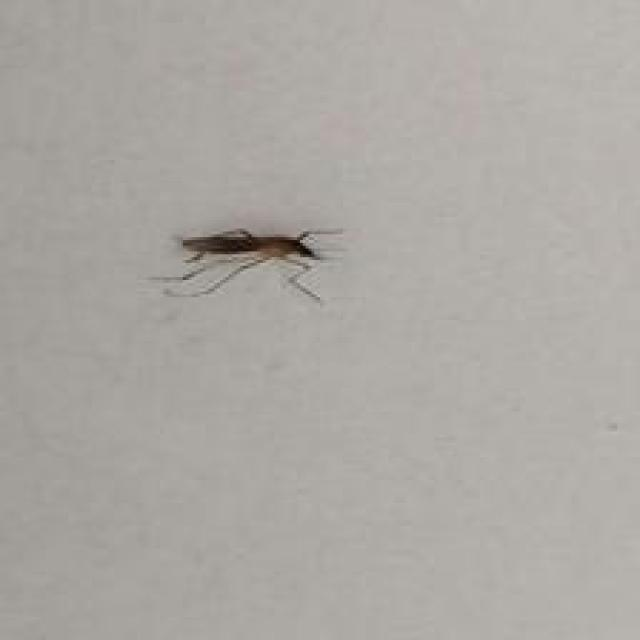Culex: (150, 224, 344, 304)
